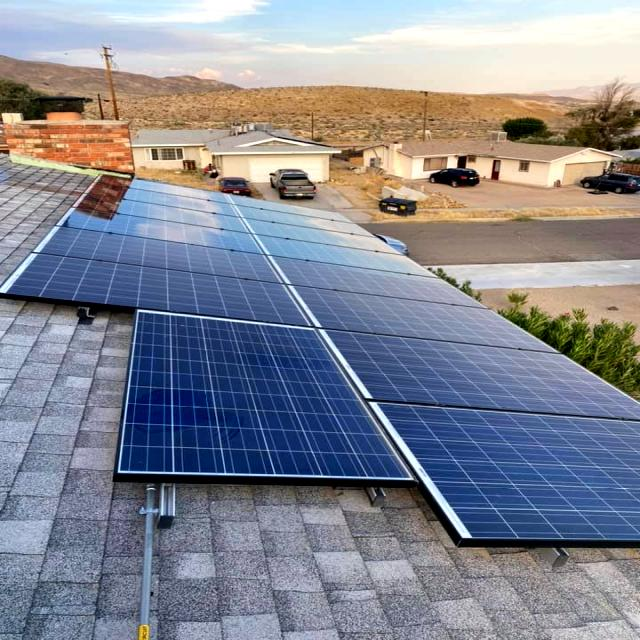dust: (452, 446, 600, 538), (367, 274, 532, 356), (472, 359, 628, 415)
